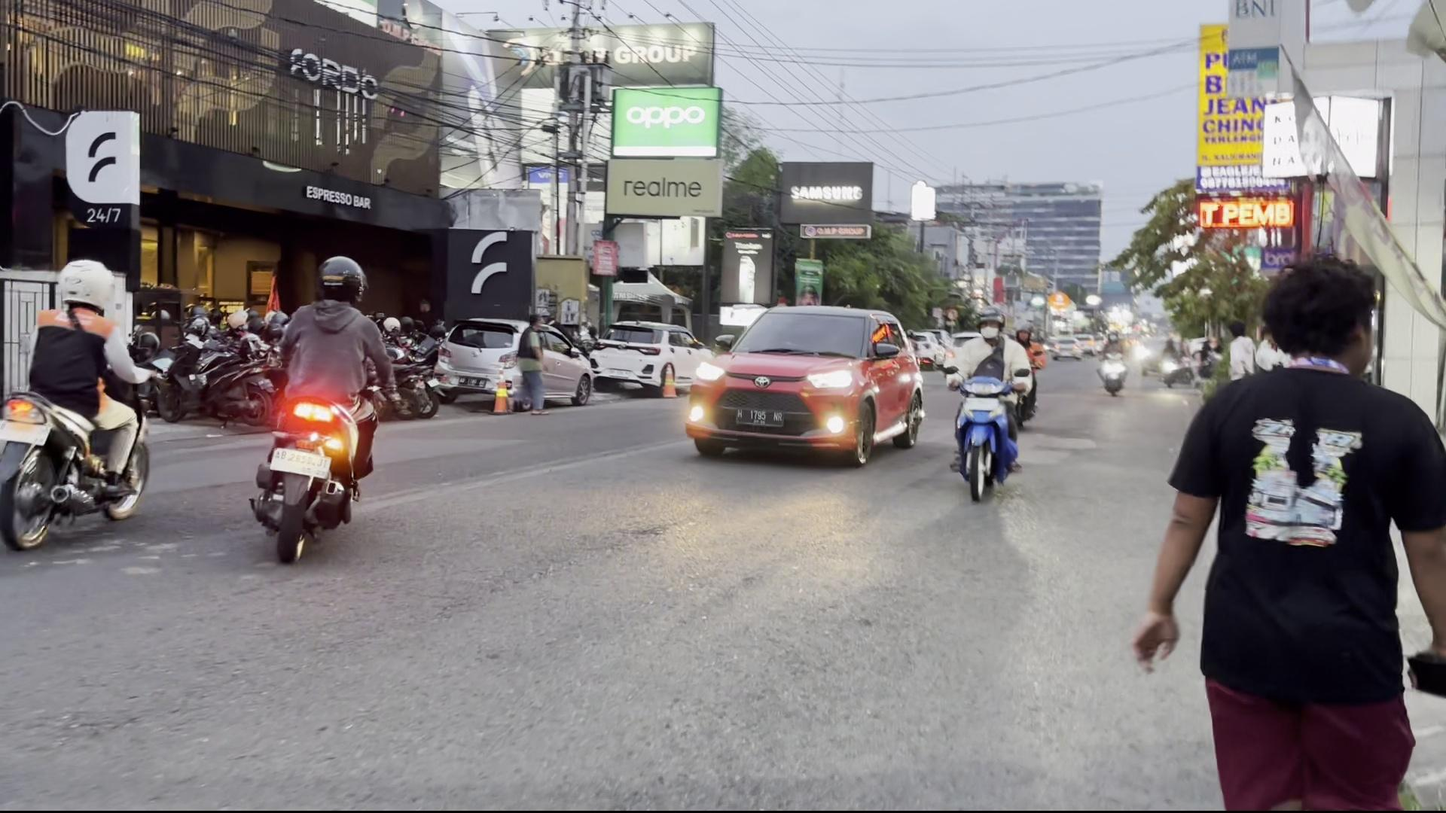helm: (54, 257, 122, 318), (311, 254, 372, 315)
riding: (0, 257, 170, 557), (254, 253, 400, 580)
